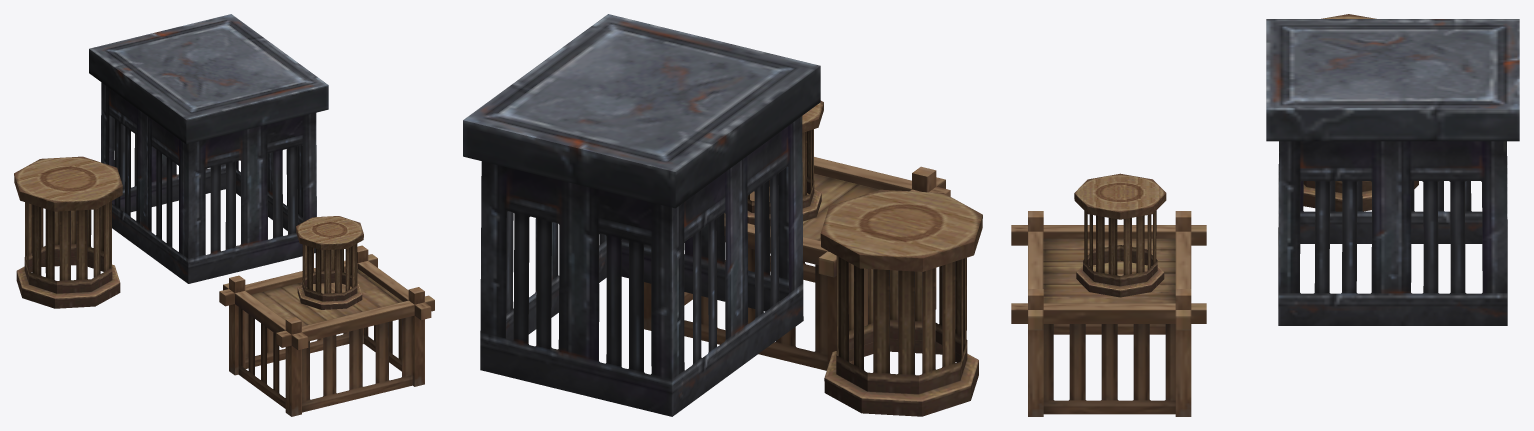
3 views of the same model, side by side, from view 1: azimuth 30°, elevation 25°; view 2: azimuth 150°, elevation 25°; view 3: azimuth 270°, elevation 25° (orthographic). The views are drawn at different scales.
Parts seen in each view (by area): view 1: Object002; view 2: Object002; view 3: Object002.
Boxes of the visible parts, x1,y1,x2,y2 form: Object002: (14, 14, 434, 416); Object002: (463, 14, 982, 416); Object002: (1011, 14, 1519, 416).
Bounding box in the file's own units: 76.07 × 58.15 × 88.08.
